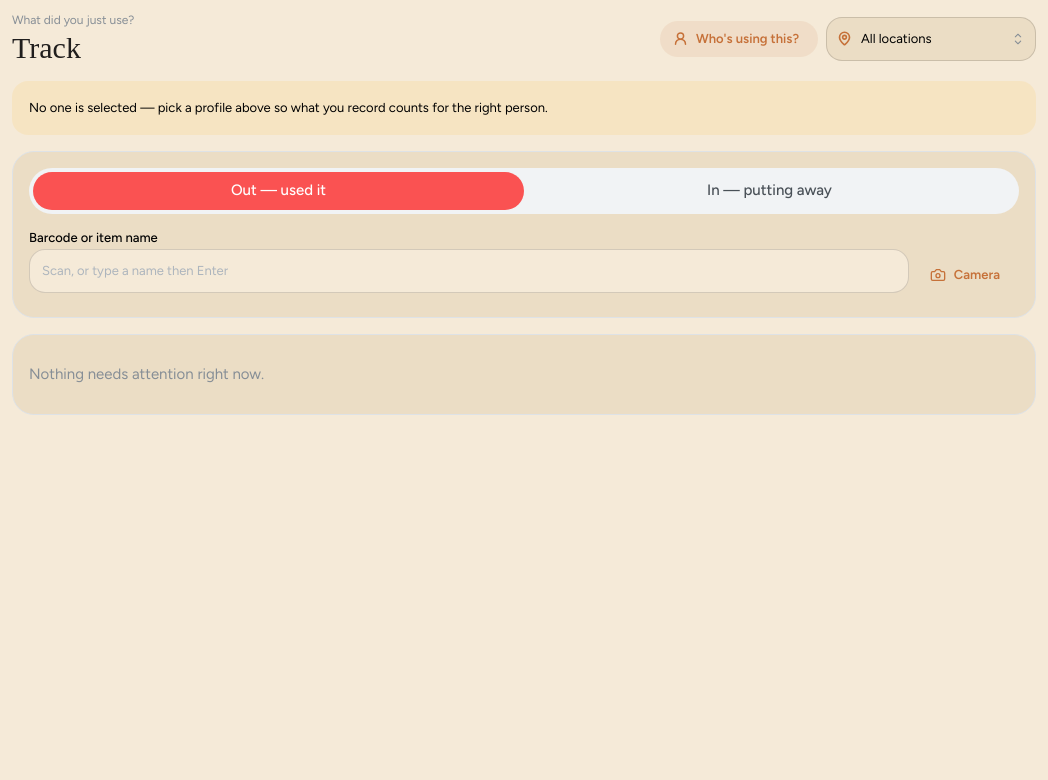
Test: TrackPage scan lanes › cancelling the prompt leaves the stock alone
The width and height of the screenshot is (1048, 780).
Type "0200000000001" into the field labelled "Barcode or item name" at (469, 271), box x1=29 y1=249 x2=909 y2=293
Then press Enter
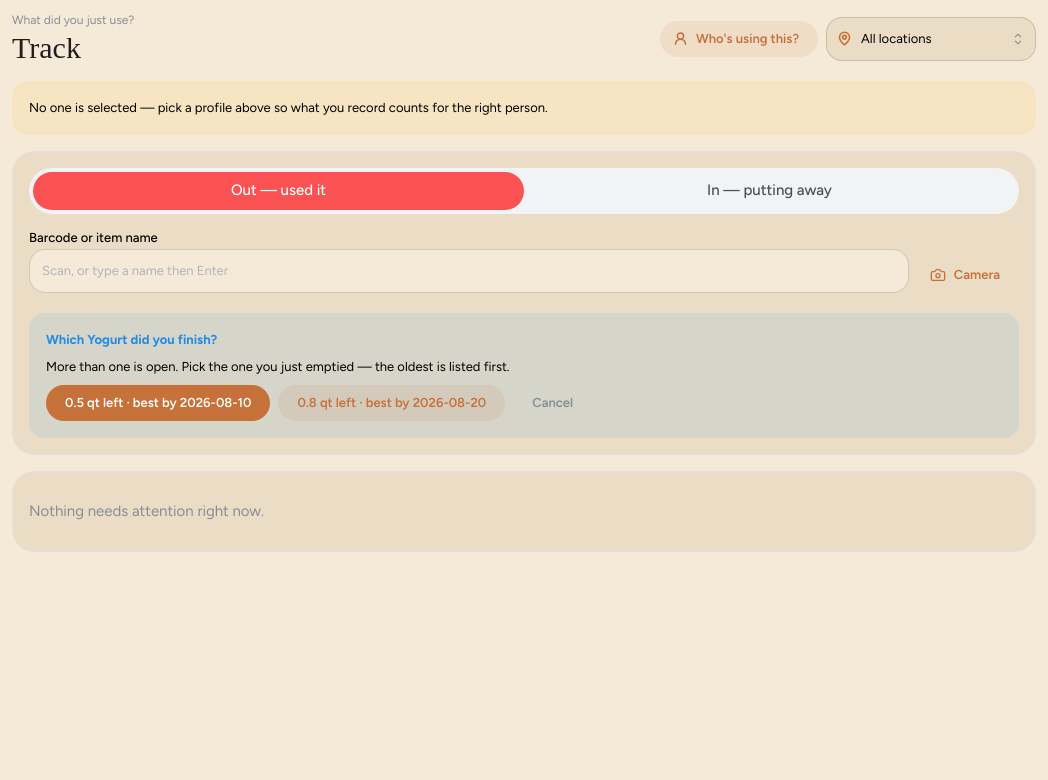
Now the text "Which Yogurt did you finish?" is shown, box x1=46 y1=330 x2=217 y2=350
Click the button "Cancel" at (553, 403), box x1=513 y1=385 x2=592 y2=421
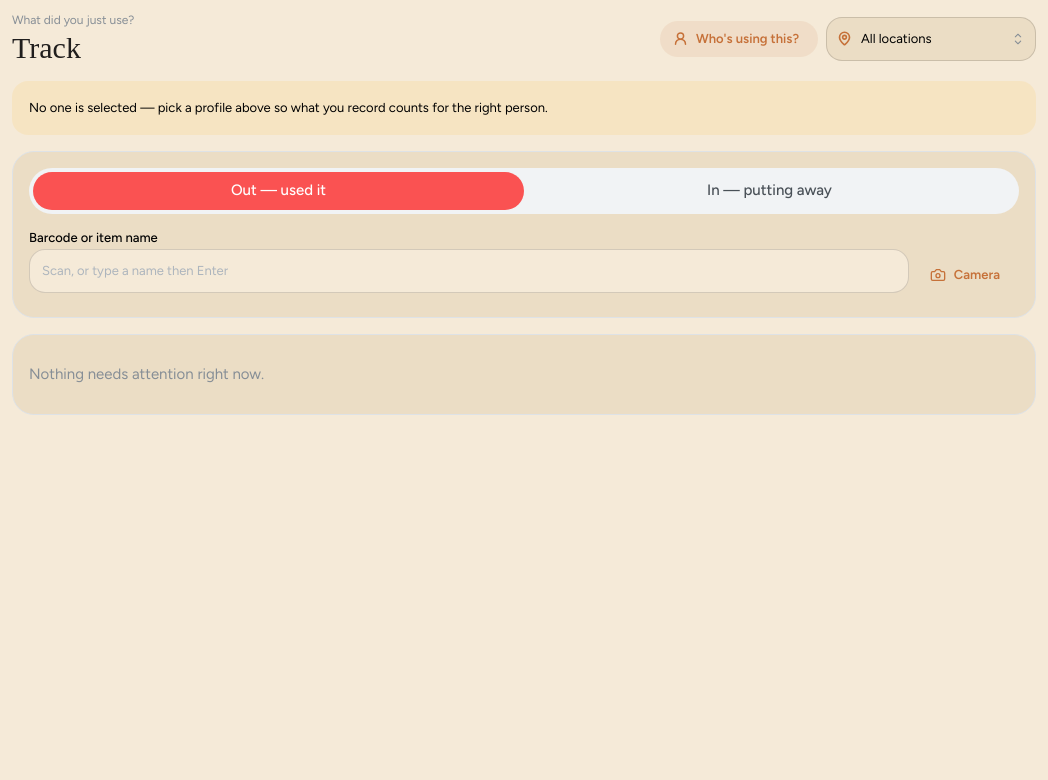
Now the text "Which Yogurt did you finish?" is gone
